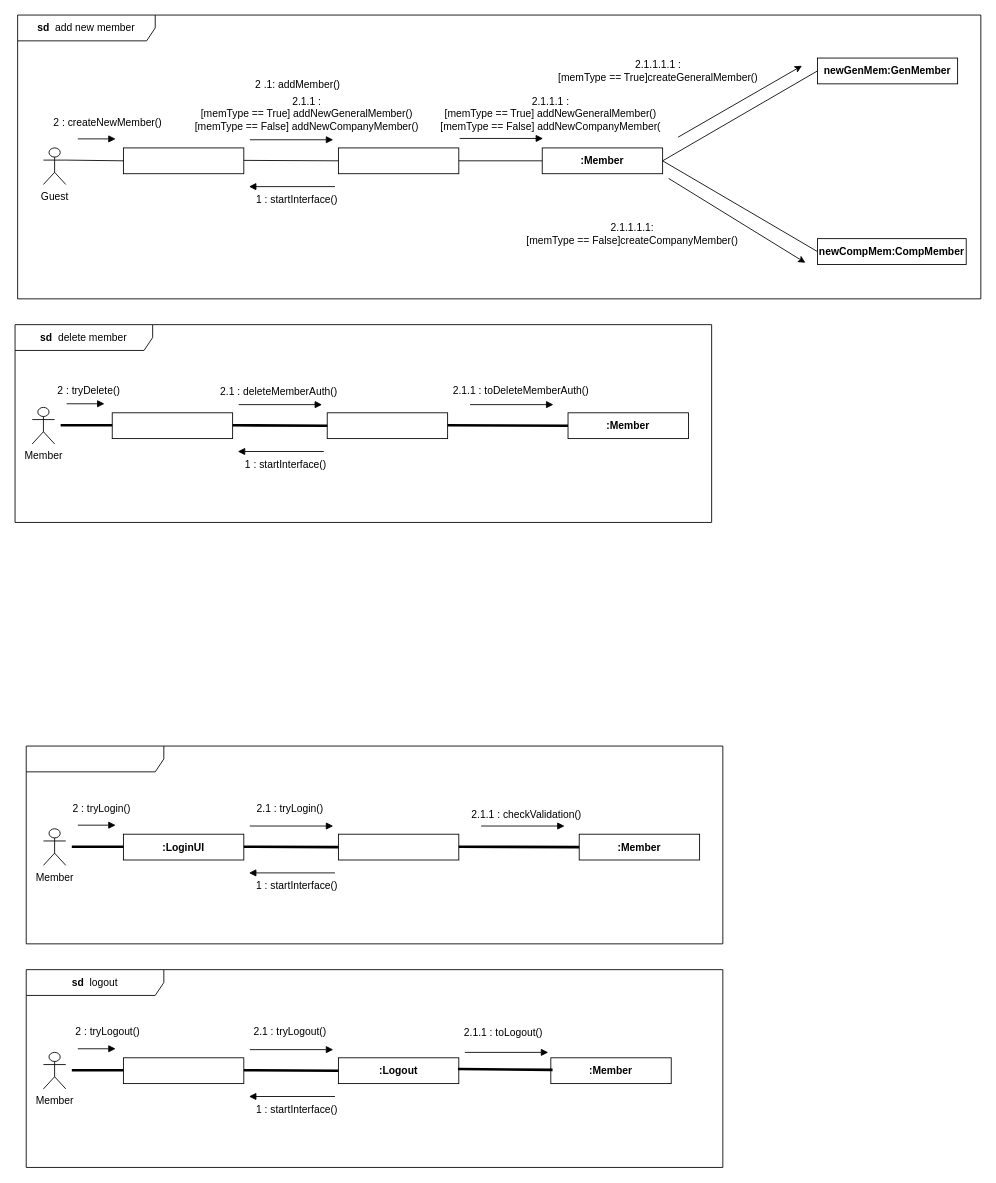
This 996x1183 diagram has some shape labels left out. The shapes that lost their labels are listed below. From the top down, each one's box as (x1, y1, x2, y2) in pixels, then its label:
(123, 147, 244, 174): :AddMemberUI
(338, 147, 459, 174): :AddMember
(111, 412, 233, 439): : DeleteMemberUI
(326, 412, 448, 439): :DeleteMember
(25, 745, 723, 944): sd login
(338, 833, 459, 860): :Login
(123, 1057, 244, 1084): :LogoutUI
